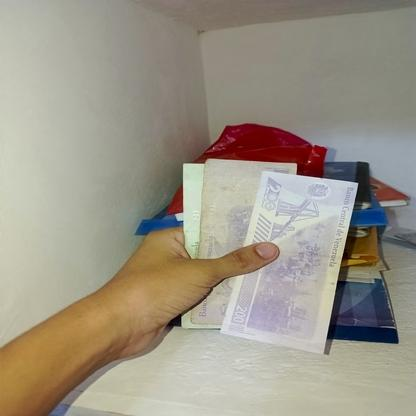fifty-back-vef: (182, 160, 232, 330)
ten-back-vef: (192, 158, 296, 324)
two_hundred-back-vef: (221, 170, 359, 354)
